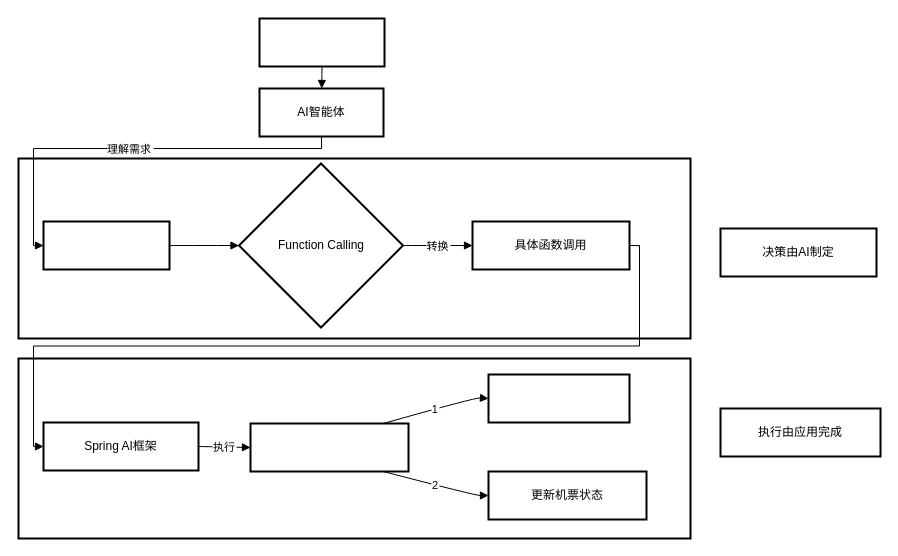
The diagram is 898 pixels wide and 556 high, and some of its shapes have lost their labels. The shapes that lost their labels are listed below. From the top down, each one's centre as x and y in pixels, then its label:
[321,42]: 用户需求
[106,245]: 决策制定
[558,398]: 修改数据库
[329,447]: 调用业务函数
